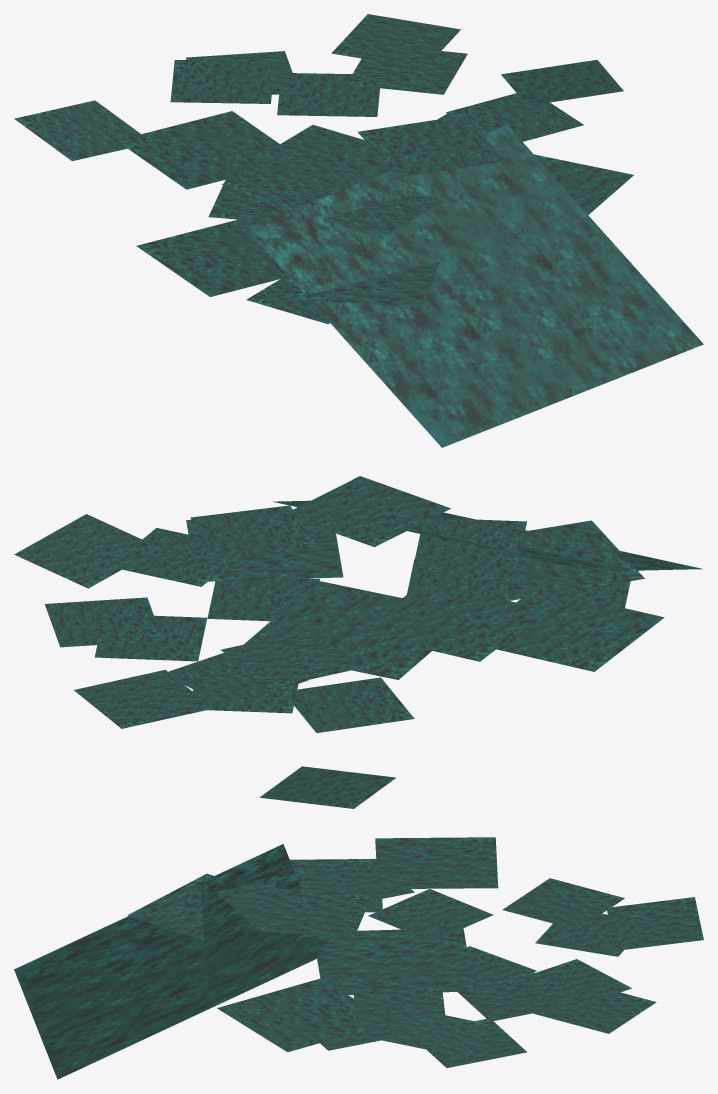
File: pir_m_prp_swm_canopy.fbx
3 views of the same model, one above another, from view 1: azimuth 30°, elevation 25°; view 2: azimuth 150°, elevation 25°; view 3: azimuth 270°, elevation 25° (orthographic). The views are drawn at different scales.
Parts seen in each view (by area): view 1: polySurface540, polySurface512, polySurface506, polySurface503, polySurface509, polySurface516, polySurface523, polySurface507, polySurface541, polySurface522, polySurface539, polySurface505 (+8 smaller); view 2: polySurface512, polySurface508, polySurface506, polySurface539, polySurface503, polySurface522, polySurface515, polySurface509, polySurface516, polySurface541, polySurface513, polySurface502 (+10 smaller); view 3: polySurface540, polySurface508, polySurface538, polySurface512, polySurface503, polySurface515, polySurface509, polySurface516, polySurface522, polySurface523, polySurface519, polySurface505 (+9 smaller).
Boxes of the visible parts, <box> form: polySurface540: <box>246,125,703,447</box>; polySurface512: <box>117,111,301,189</box>; polySurface506: <box>136,214,288,296</box>; polySurface503: <box>358,115,504,177</box>; polySurface509: <box>346,43,467,94</box>; polySurface516: <box>170,60,274,103</box>; polySurface523: <box>14,100,140,161</box>; polySurface507: <box>222,154,360,207</box>; polySurface541: <box>277,73,379,116</box>; polySurface522: <box>501,59,623,105</box>; polySurface539: <box>282,261,439,307</box>; polySurface505: <box>446,93,583,141</box>; polySurface512: <box>357,581,547,661</box>; polySurface508: <box>244,580,431,679</box>; polySurface506: <box>496,593,664,671</box>; polySurface539: <box>510,520,644,600</box>; polySurface503: <box>293,476,450,546</box>; polySurface522: <box>14,514,160,588</box>; polySurface515: <box>45,597,162,647</box>; polySurface509: <box>190,505,318,559</box>; polySurface516: <box>220,629,359,688</box>; polySurface541: <box>74,669,213,728</box>; polySurface513: <box>294,677,414,733</box>; polySurface502: <box>415,518,526,565</box>; polySurface540: <box>14,844,326,1079</box>; polySurface508: <box>317,928,473,994</box>; polySurface538: <box>217,978,377,1052</box>; polySurface512: <box>375,837,498,889</box>; polySurface503: <box>253,888,371,938</box>; polySurface515: <box>507,959,631,1011</box>; polySurface509: <box>368,889,493,941</box>; polySurface516: <box>502,878,624,929</box>; polySurface522: <box>382,1007,489,1057</box>; polySurface523: <box>607,897,703,949</box>; polySurface519: <box>535,914,649,956</box>; polySurface505: <box>353,987,445,1026</box>.
Size of the model in its own units: 25174 by 7452 by 33132.
1 material, 1 textured.
